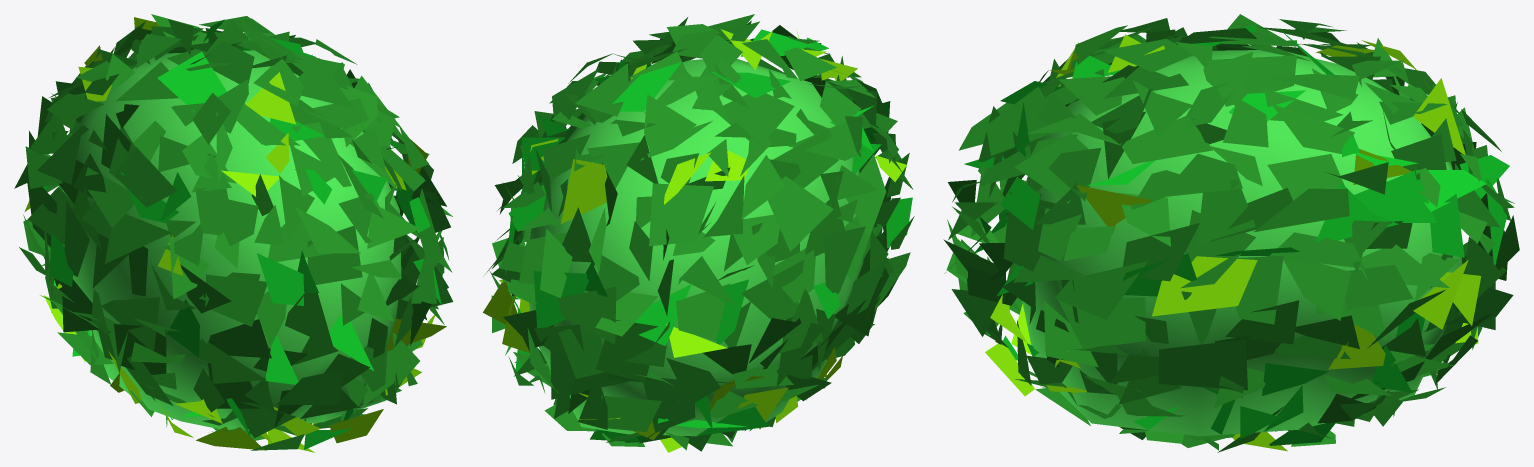
The model's file is Wide_Bush.fbx.
The picture shows the model from 3 angles, left to right: view 1: azimuth 30°, elevation 25°; view 2: azimuth 150°, elevation 25°; view 3: azimuth 270°, elevation 25°; orthographic projection. The views are drawn at different scales.
Parts seen in each view (by area): view 1: Cube.005; view 2: Cube.005; view 3: Cube.005.
Boxes of the visible parts, <box> form: Cube.005: <box>14,14,453,452</box>; Cube.005: <box>483,14,914,452</box>; Cube.005: <box>943,14,1519,452</box>.
Size of the model in its own units: 279 by 310 by 398.
